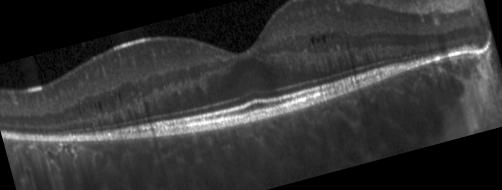intraretinal_cyst: (111, 96, 116, 109), (97, 101, 102, 111), (108, 96, 112, 106), (311, 36, 315, 45), (322, 36, 326, 43), (118, 93, 121, 102), (78, 107, 81, 115), (82, 107, 85, 112), (94, 102, 96, 108), (317, 38, 319, 43), (309, 42, 311, 46), (331, 35, 333, 39), (91, 106, 93, 109)
